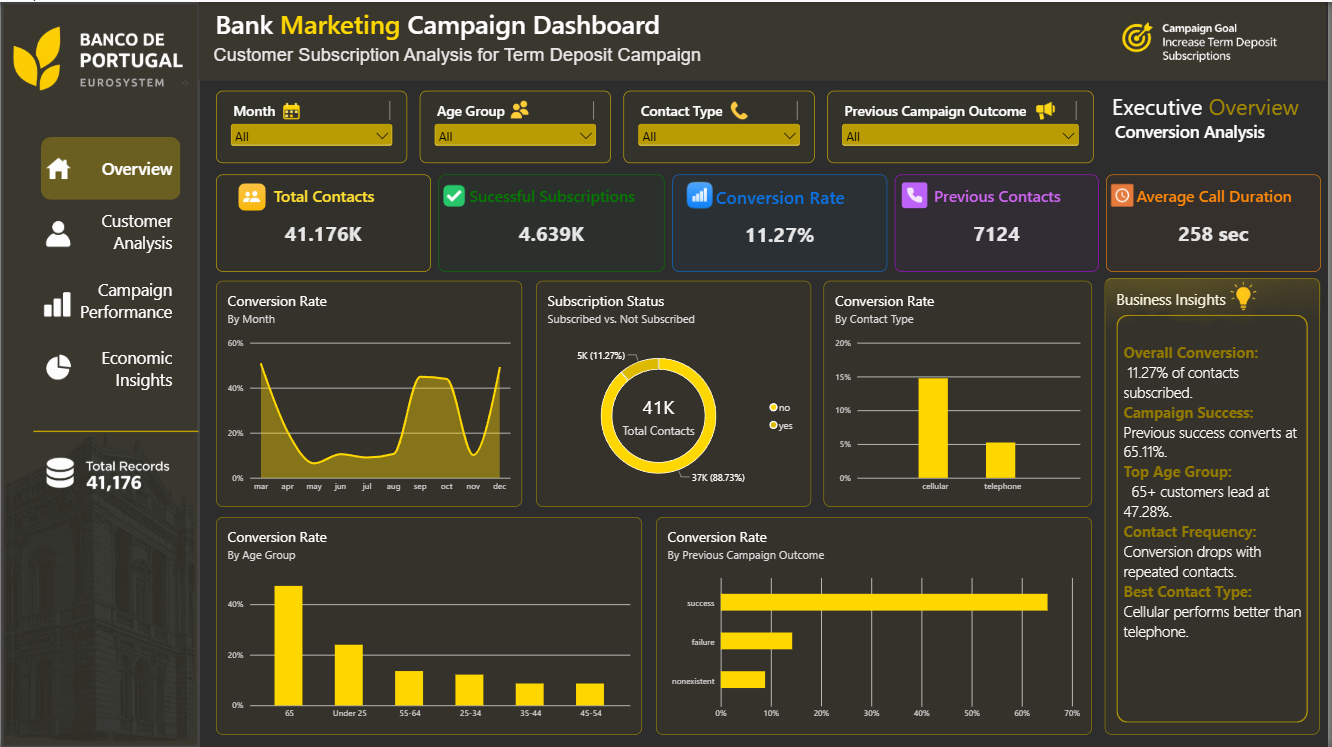

The page's visual inventory and layout, read from the dashboard file:
{"tool":"powerbi","page":{"name":"Overview","canvas":[1920,1080],"ordinal":0},"visuals":[{"type":"card","title":"Total Contacts","fields":{"Values":["Cleaned_Bank_Data.Total Contacts"]},"box":[311.3,249.7,311,141.2],"z":0},{"type":"card","title":"Sucessful Subscriptions","fields":{"Values":["Cleaned_Bank_Data.Successful Subscriptions"]},"box":[633.4,249.7,327.5,141.2],"z":1000},{"type":"card","title":"Conversion Rate","fields":{"Values":["Cleaned_Bank_Data.Conversion Rate"]},"box":[971.8,249.7,311.3,141.2],"z":2000},{"type":"card","title":"Average Call Duration","fields":{"Values":["Cleaned_Bank_Data.Average Call Duration KPI"]},"box":[1599.7,249.7,311.3,141.2],"z":3000},{"type":"card","title":"Previous Contacts","fields":{"Values":["Cleaned_Bank_Data.Previous Contacts"]},"box":[1293.9,249.7,295,141.2],"z":4000},{"type":"columnChart","title":"Conversion Rate ","fields":{"Category":["Cleaned_Bank_Data.contact"],"Y":["Cleaned_Bank_Data.Conversion Rate"]},"box":[1190.8,404,389.1,327.5],"z":5000},{"type":"clusteredColumnChart","title":"Conversion Rate","fields":{"Category":["Cleaned_Bank_Data.age_group"],"Y":["Cleaned_Bank_Data.Conversion Rate"]},"box":[311.3,745.6,617,314.9],"z":6000},{"type":"clusteredBarChart","title":"Conversion Rate","fields":{"Category":["Cleaned_Bank_Data.previous_campaign_outcome"],"Y":["Cleaned_Bank_Data.Conversion Rate"]},"box":[948.3,745.6,631.6,314.9],"z":7000},{"type":"stackedAreaChart","title":"Conversion Rate ","fields":{"Category":["Cleaned_Bank_Data.month"],"Y":["Cleaned_Bank_Data.Conversion Rate"]},"box":[311.3,404,443.4,327.5],"z":8000},{"type":"donutChart","title":"Subscription Status","fields":{"Category":["Cleaned_Bank_Data.subscribed"],"Y":["Cleaned_Bank_Data.Total Contacts"]},"box":[774.5,404,398.1,327.5],"z":9000},{"type":"shape","box":[0,0,287.7,1080.4],"z":10000},{"type":"image","box":[0,0,287.7,162.9],"z":11000},{"type":"shape","box":[285.9,0,1632.3,114],"z":12000},{"type":"textbox","box":[298.6,0,787.2,114],"z":13000},{"type":"image","box":[0,584.3,285.7,495.6],"z":14000},{"type":"image","box":[1567.2,0,336.6,114],"z":15000},{"type":"pageNavigator","box":[57.9,195.4,202.7,389.1],"z":16000},{"type":"image","box":[59.7,298.6,47.1,72.4],"z":17000},{"type":"image","box":[59.7,204.5,47.1,72.4],"z":18000},{"type":"image","box":[57.9,399.9,47.1,72.4],"z":19000},{"type":"image","box":[59.7,492.2,47.1,72.4],"z":20000},{"type":"shape","box":[47.1,555.6,238.9,132.1],"z":21000},{"type":"slicer","fields":{"Values":["Cleaned_Bank_Data.month"]},"box":[311.3,128.6,277,105],"z":23000},{"type":"slicer","fields":{"Values":["Cleaned_Bank_Data.age_group"]},"box":[606.2,128.6,276.9,105],"z":24000},{"type":"slicer","fields":{"Values":["Cleaned_Bank_Data.contact"]},"box":[901.2,128.6,276.9,105],"z":25000},{"type":"slicer","fields":{"Values":["Cleaned_Bank_Data.previous_campaign_outcome"]},"box":[1196.2,128.6,385.5,105],"z":26000},{"type":"image","box":[393.9,134.2,51.9,47.6],"z":27000},{"type":"image","box":[729.3,142.8,43.3,26],"z":28000},{"type":"image","box":[1049.6,143,38,29],"z":29000},{"type":"image","box":[1489.4,141.2,47,32],"z":30000},{"type":"shape","title":"Business Insights","box":[1597.9,399.9,311.3,660.5],"z":31000},{"type":"textbox","box":[1625.1,492.2,260.6,506.7],"z":32000},{"type":"image","box":[1599.7,394.5,311.3,186.4],"z":33000},{"type":"image","box":[343.8,251.5,39,61],"z":34000},{"type":"image","box":[628,260.6,56.1,39.8],"z":35000},{"type":"image","box":[959.1,235.3,105,88.7],"z":36000},{"type":"image","box":[1275.8,242.5,94.1,74.2],"z":37000},{"type":"image","box":[1592.5,246.1,63.3,72.4],"z":38000},{"type":"image","box":[47.1,622.5,213.5,123.1],"z":39000},{"type":"image","box":[1735.5,392.7,126.7,68.8],"z":40000},{"type":"textbox","box":[1599.7,128.5,309.5,105],"z":44000}]}

Visuals, with their boxes in screenshot pixels (x1, y1, x2, y2), scaled from the page's 1920x1080 canvas onto the 1332x747 screenshot:
"Total Contacts" card: box=[216, 173, 432, 270]
"Sucessful Subscriptions" card: box=[439, 173, 667, 270]
"Conversion Rate" card: box=[674, 173, 890, 270]
"Average Call Duration" card: box=[1110, 173, 1326, 270]
"Previous Contacts" card: box=[898, 173, 1102, 270]
"Conversion Rate " columnChart: box=[826, 279, 1096, 506]
"Conversion Rate" clusteredColumnChart: box=[216, 516, 644, 734]
"Conversion Rate" clusteredBarChart: box=[658, 516, 1096, 734]
"Conversion Rate " stackedAreaChart: box=[216, 279, 524, 506]
"Subscription Status" donutChart: box=[537, 279, 813, 506]
shape: box=[0, 0, 200, 746]
image: box=[0, 0, 200, 113]
shape: box=[198, 0, 1331, 79]
textbox: box=[207, 0, 753, 79]
image: box=[0, 404, 198, 746]
image: box=[1087, 0, 1321, 79]
pageNavigator: box=[40, 135, 181, 404]
image: box=[41, 207, 74, 257]
image: box=[41, 141, 74, 192]
image: box=[40, 277, 73, 327]
image: box=[41, 340, 74, 391]
shape: box=[33, 384, 198, 476]
slicer - Cleaned_Bank_Data.month: box=[216, 89, 408, 162]
slicer - Cleaned_Bank_Data.age_group: box=[421, 89, 613, 162]
slicer - Cleaned_Bank_Data.contact: box=[625, 89, 817, 162]
slicer - Cleaned_Bank_Data.previous_campaign_outcome: box=[830, 89, 1097, 162]
image: box=[273, 93, 309, 126]
image: box=[506, 99, 536, 117]
image: box=[728, 99, 755, 119]
image: box=[1033, 98, 1066, 120]
"Business Insights" shape: box=[1109, 277, 1325, 733]
textbox: box=[1127, 340, 1308, 691]
image: box=[1110, 273, 1326, 402]
image: box=[239, 174, 266, 216]
image: box=[436, 180, 475, 208]
image: box=[665, 163, 738, 224]
image: box=[885, 168, 950, 219]
image: box=[1105, 170, 1149, 220]
image: box=[33, 431, 181, 516]
image: box=[1204, 272, 1292, 319]
textbox: box=[1110, 89, 1325, 162]
